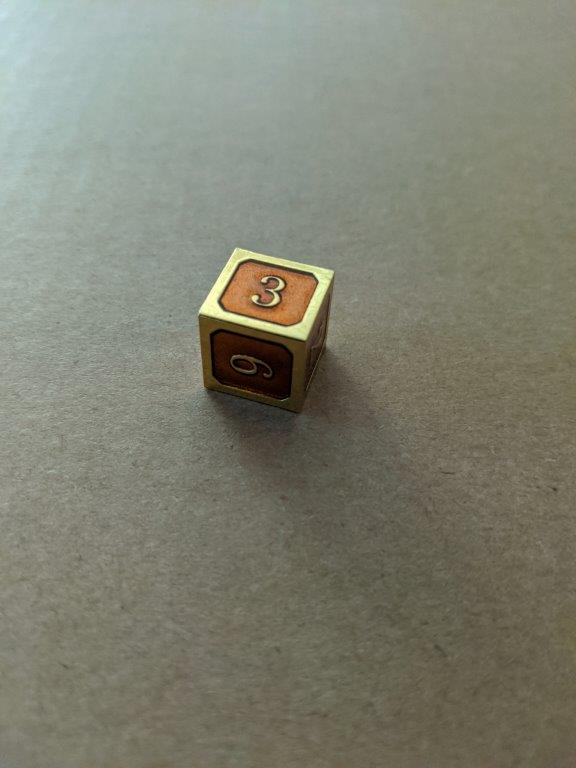d6-3: (196, 245, 337, 413)
